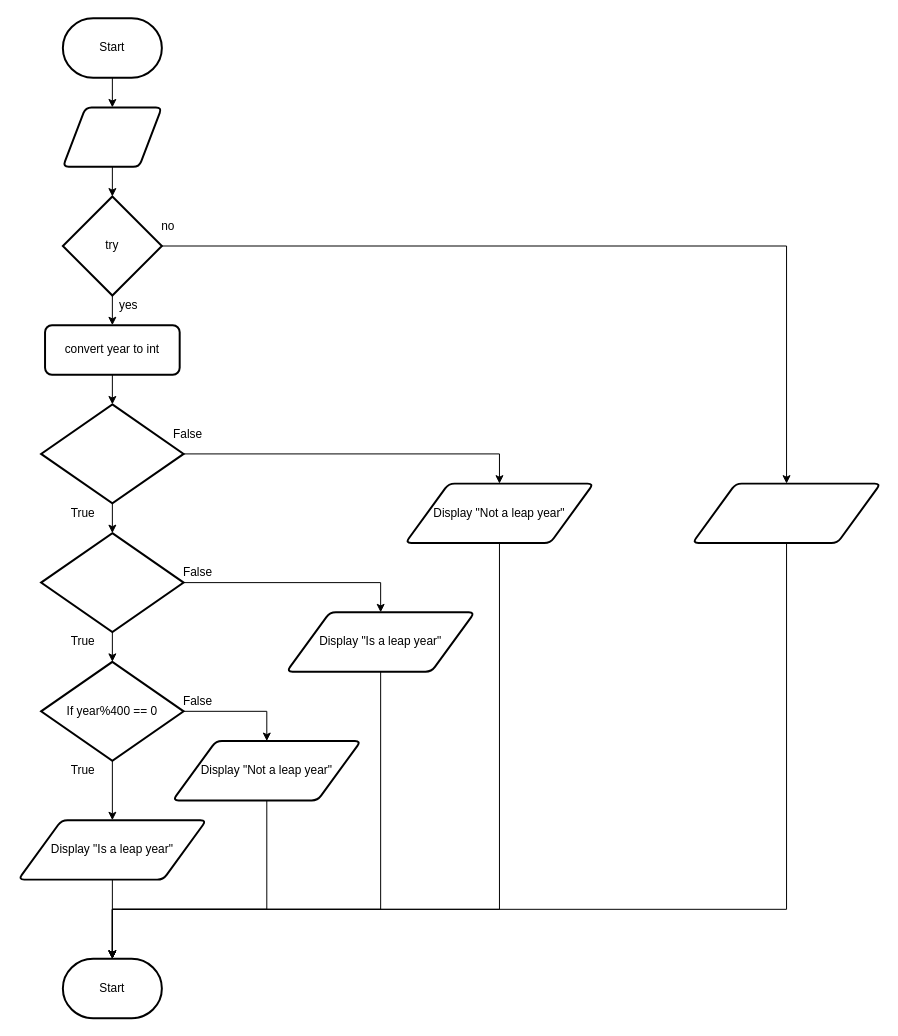
This 898x1036 diagram has some shape labels left out. Here are the shapes that lost their labels. From the top down, the box of each, then its label:
(61, 106, 162, 167): Get year
(40, 403, 184, 504): If year%4 == 0
(691, 482, 881, 544): Display "Invalid Input"
(40, 532, 184, 633): If year%100 == 0
